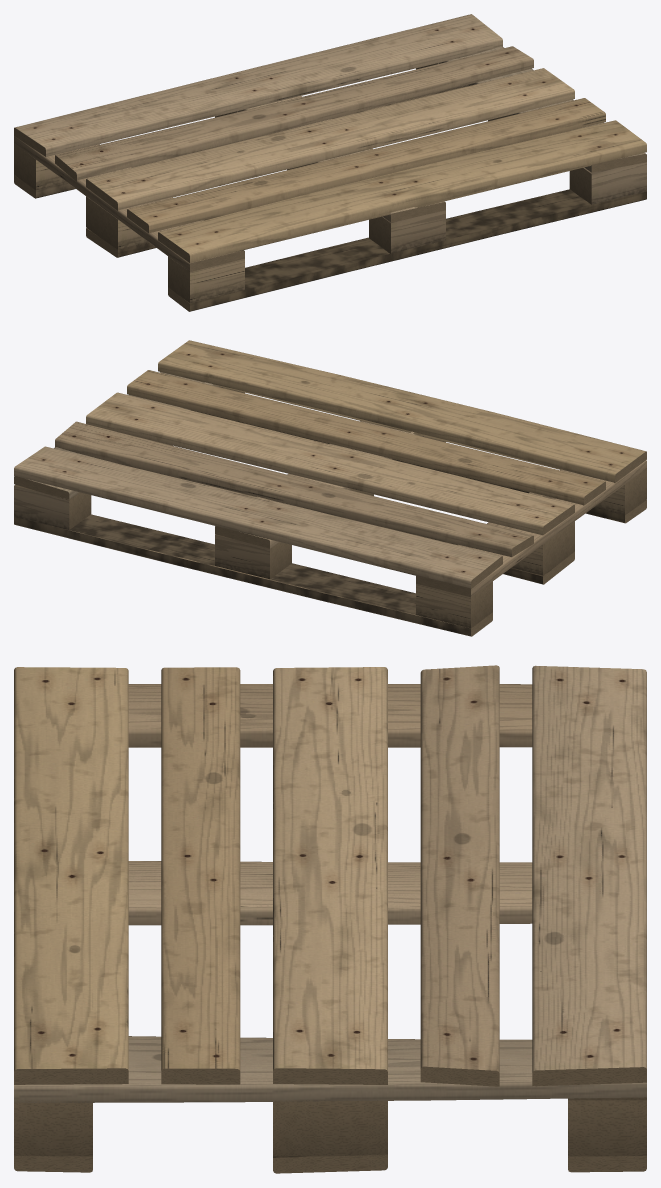
The model's file is wooden-pallet-v1-lod0.glb.
3 renders of one model, top to bottom at view 1: azimuth 30°, elevation 25°; view 2: azimuth 150°, elevation 25°; view 3: azimuth 270°, elevation 25°, orthographic. The views are drawn at different scales.
Parts seen in each view (by area): view 1: wooden-pallet_lod0; view 2: wooden-pallet_lod0; view 3: wooden-pallet_lod0.
Part boxes in pixels (left/top/right/bottom): wooden-pallet_lod0: left=14, top=14, right=646, bottom=311; wooden-pallet_lod0: left=14, top=340, right=646, bottom=636; wooden-pallet_lod0: left=14, top=665, right=646, bottom=1173.
Size of the model in its own units: 1.2 by 0.1515 by 0.8.
1 material, 1 textured.
